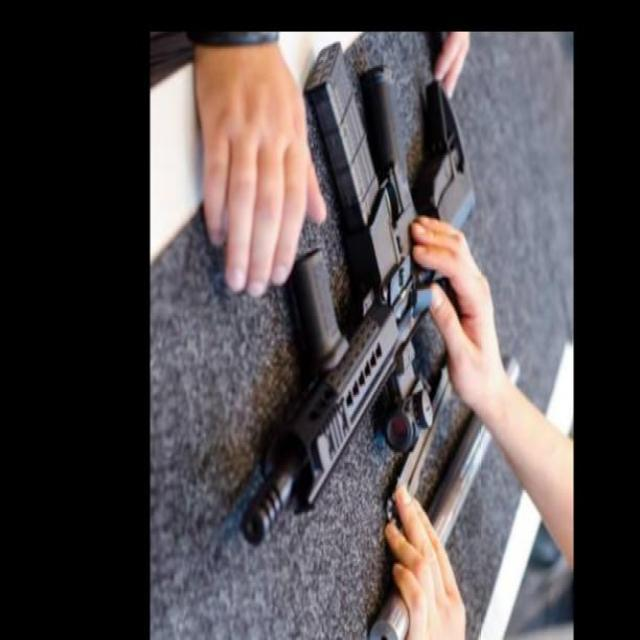weapon: (238, 40, 477, 551)
